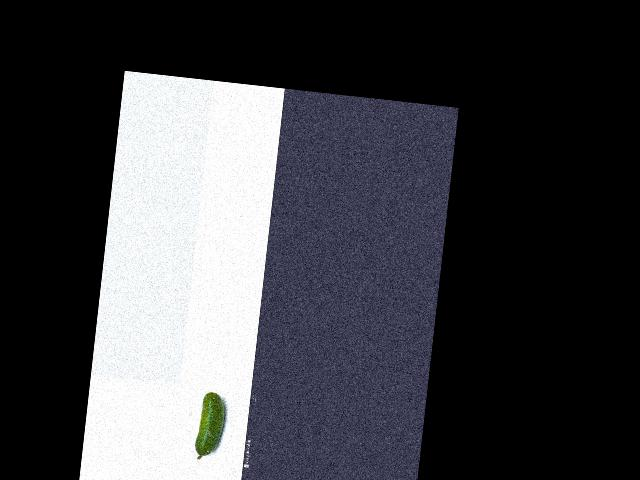cucumber: (193, 390, 227, 461)
